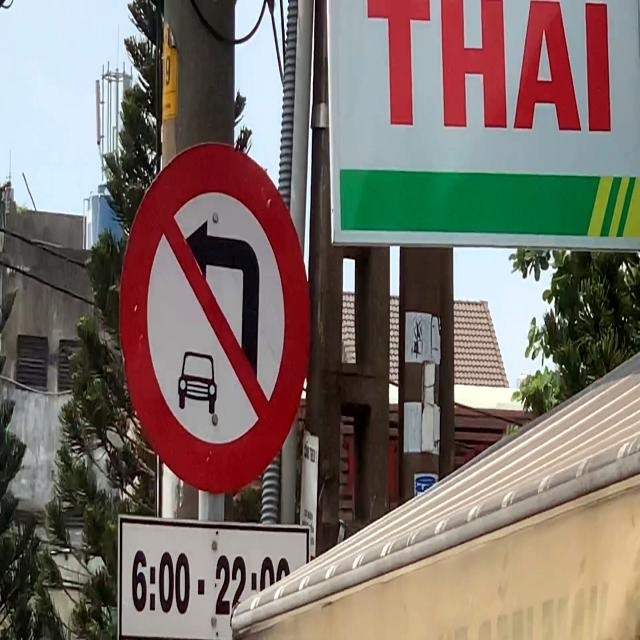bien_cam: (122, 139, 310, 493)
